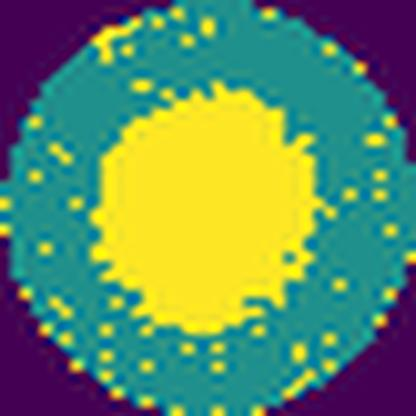Center: (95, 82, 312, 336)
